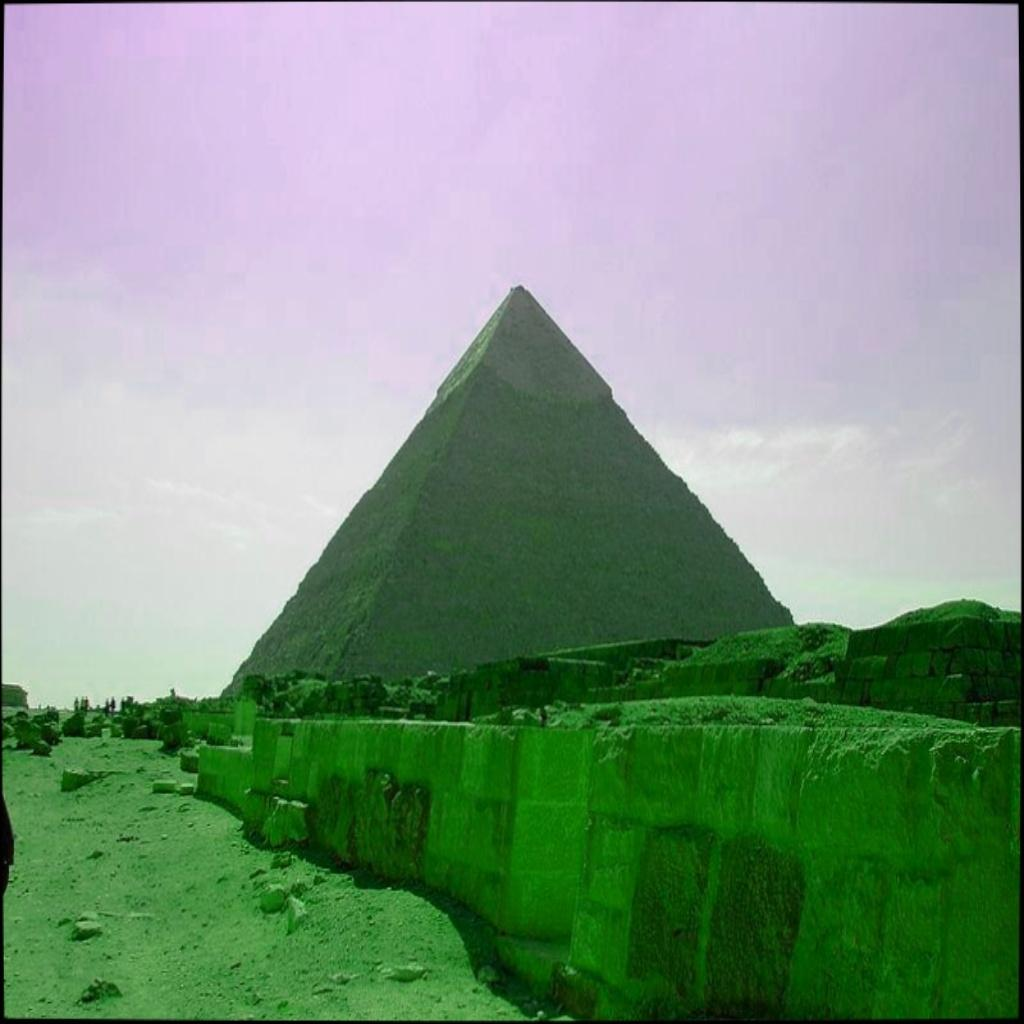Great Pyramids of Giza: (219, 280, 796, 696)
